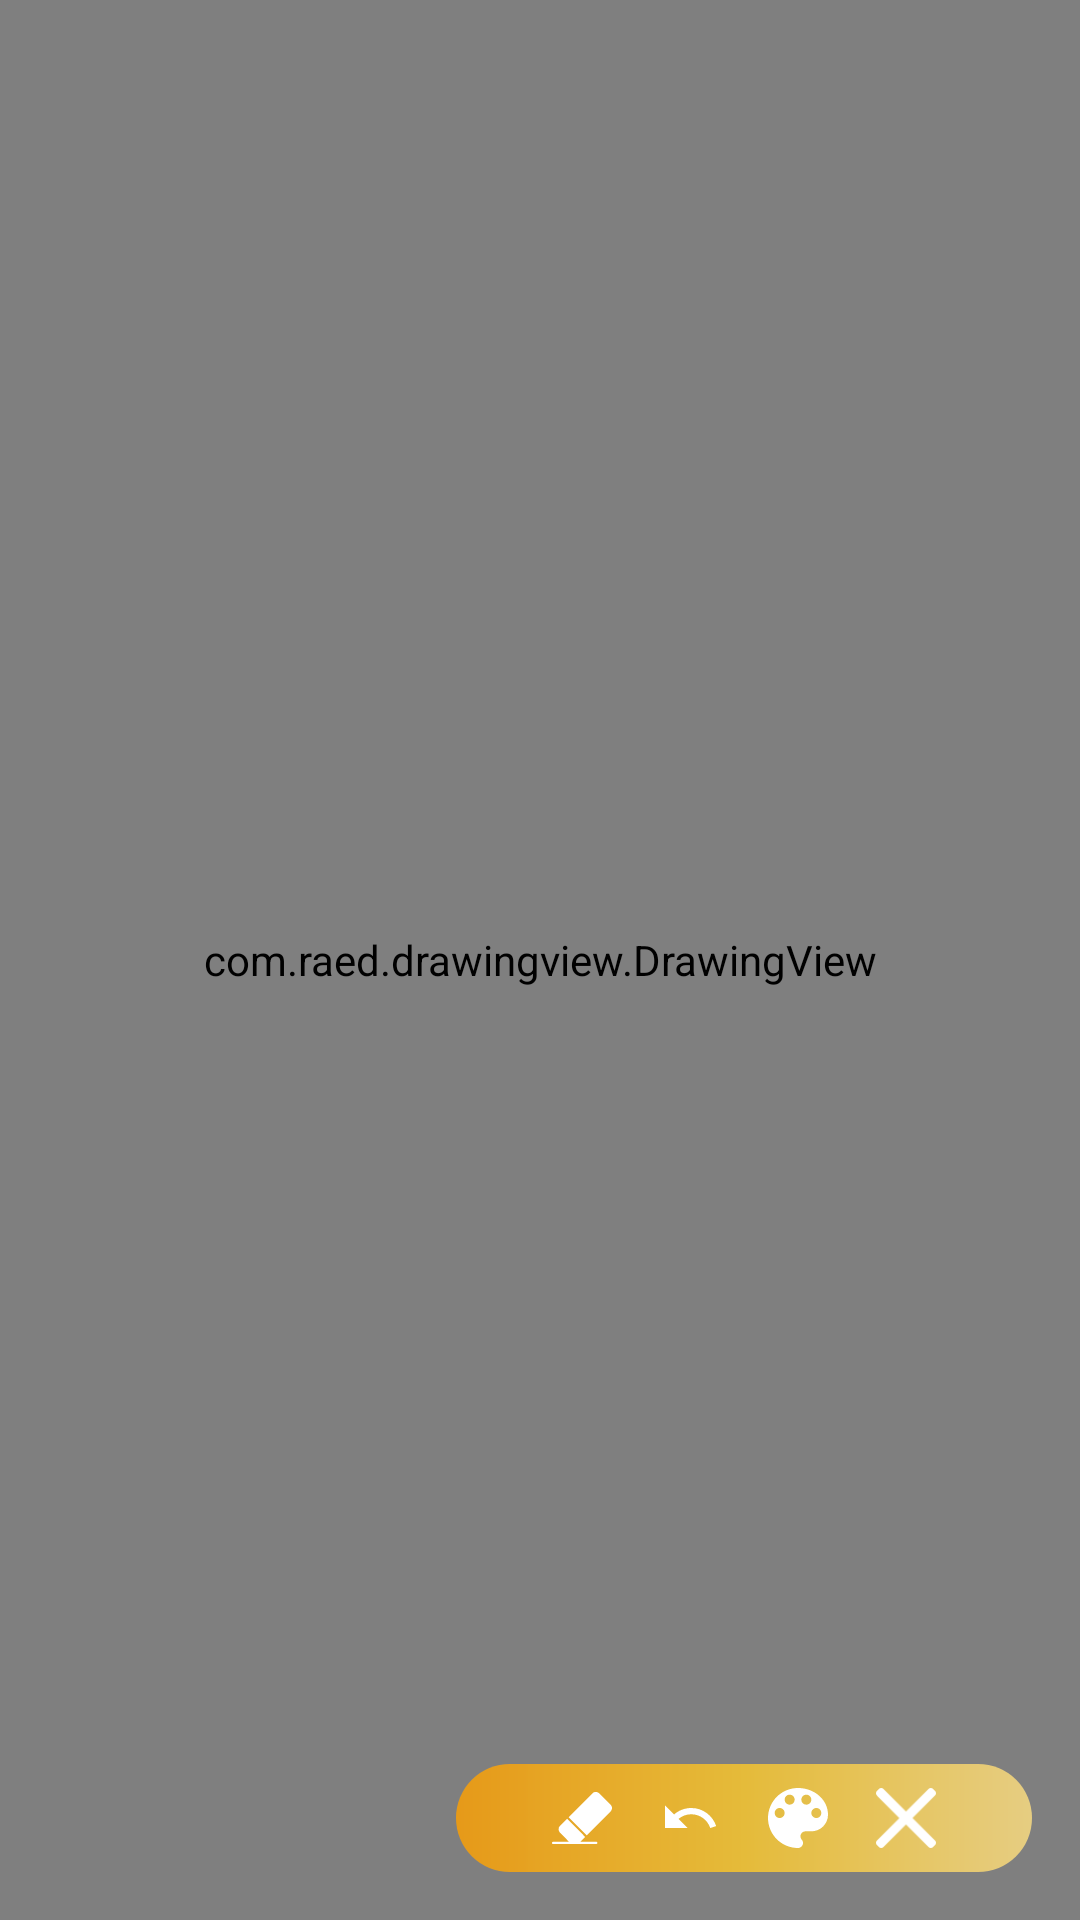

Where icons sit on this 1080w x 1920h app screen, as rect(x1, y1, x2, y2):
close brush: rect(876, 1788, 936, 1848)
eraser brush: rect(552, 1792, 612, 1844)
paint brush: rect(768, 1788, 828, 1848)
undo brush: rect(665, 1805, 716, 1828)
